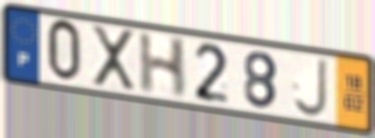0: (44, 17, 85, 88)
2: (193, 41, 231, 108)
8: (242, 49, 280, 111)
H: (137, 31, 190, 101)
J: (292, 56, 330, 120)
X: (89, 23, 138, 93)
